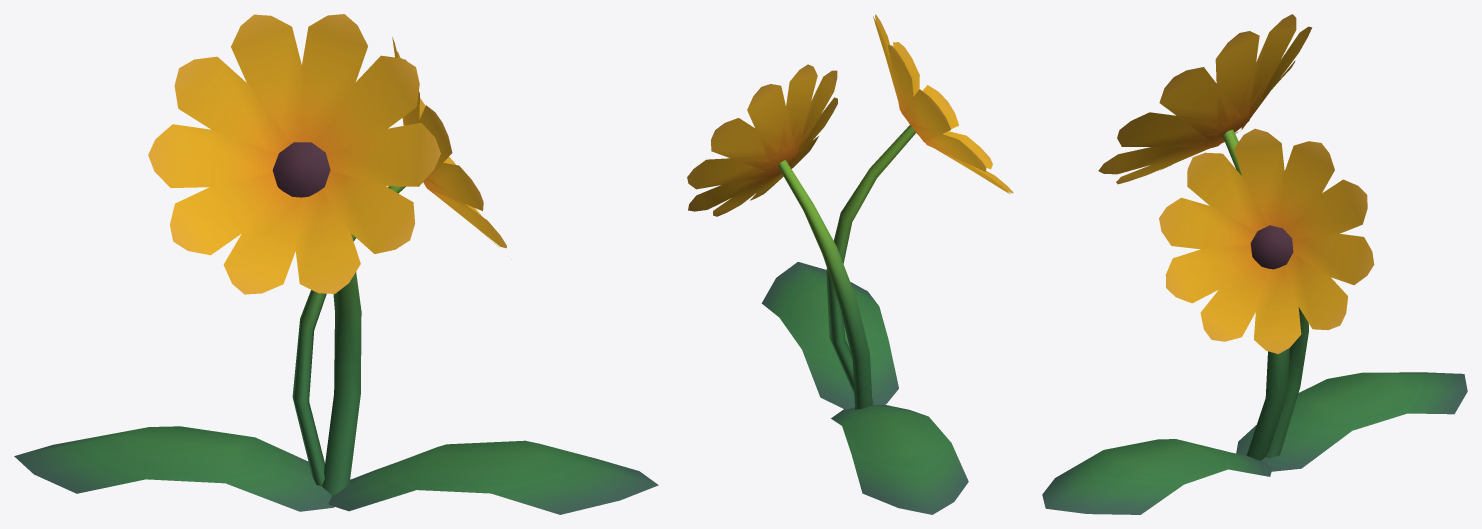
Rendered from flower_016_base_material_0.fbx.
The picture shows the model from 3 angles, left to right: view 1: azimuth 30°, elevation 25°; view 2: azimuth 150°, elevation 25°; view 3: azimuth 270°, elevation 25°; orthographic projection. The views are drawn at different scales.
Parts seen in each view (by area): view 1: flower_016_base_material_0; view 2: flower_016_base_material_0; view 3: flower_016_base_material_0.
Part boxes in pixels (bbox=[...]): flower_016_base_material_0: bbox=[14, 14, 658, 514]; flower_016_base_material_0: bbox=[687, 14, 1013, 514]; flower_016_base_material_0: bbox=[1042, 14, 1467, 514].
Size of the model in its own units: 2.37 by 2.39 by 2.68.
Materials: 1 (1 with a texture image).
